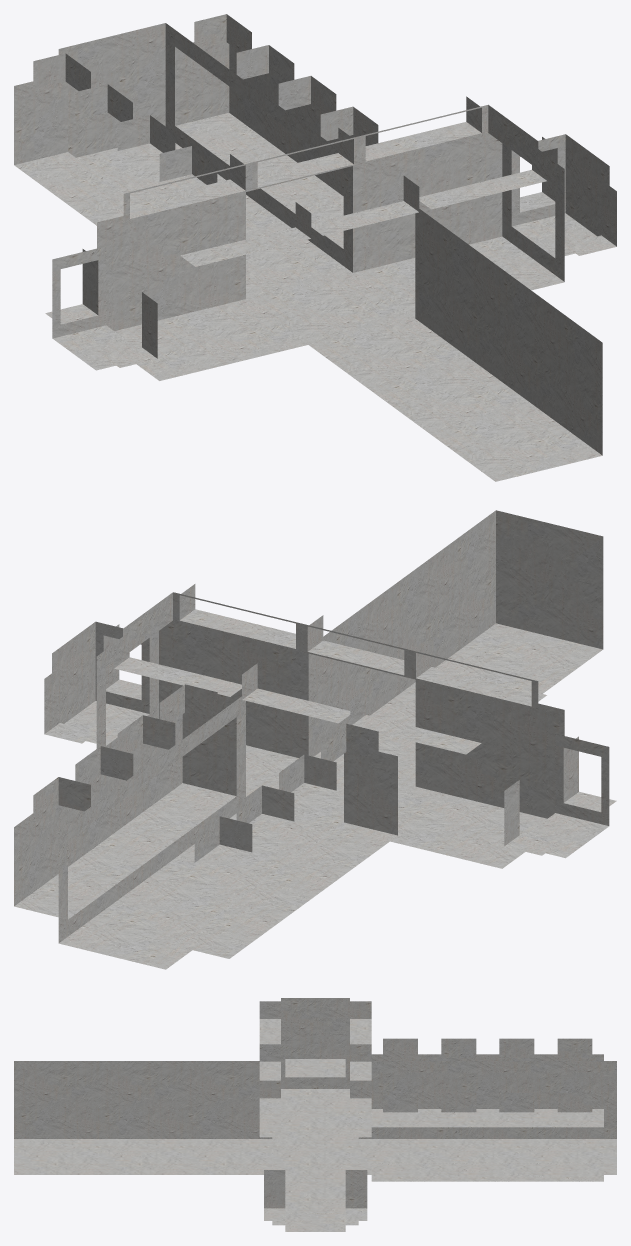
Rendered from galleriac4d2.glb.
The picture shows the model from 3 angles, top to bottom: view 1: azimuth 30°, elevation 25°; view 2: azimuth 150°, elevation 25°; view 3: azimuth 270°, elevation 25°; orthographic projection. The views are drawn at different scales.
Visible parts, largest first — view 1: Piano.020_Piano.029; view 2: Piano.020_Piano.029; view 3: Piano.020_Piano.029.
Boxes of the visible parts, x1,y1,x2,y2 form: Piano.020_Piano.029: [14, 14, 616, 481]; Piano.020_Piano.029: [14, 510, 616, 969]; Piano.020_Piano.029: [14, 998, 616, 1231].
Bounding box in the file's own units: 399 × 105 × 588.
1 material, 1 textured.
